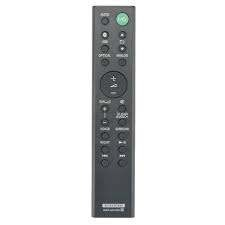remote control: (88, 8, 137, 220)
